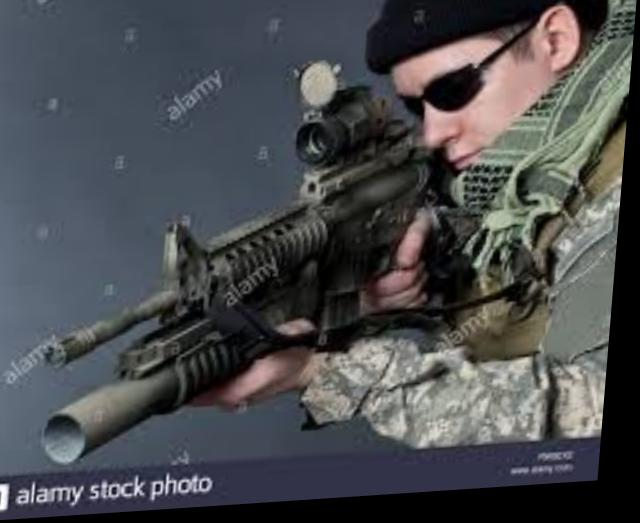other: (323, 0, 638, 447)
